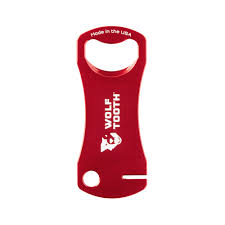bottleopener: (76, 25, 148, 199)
